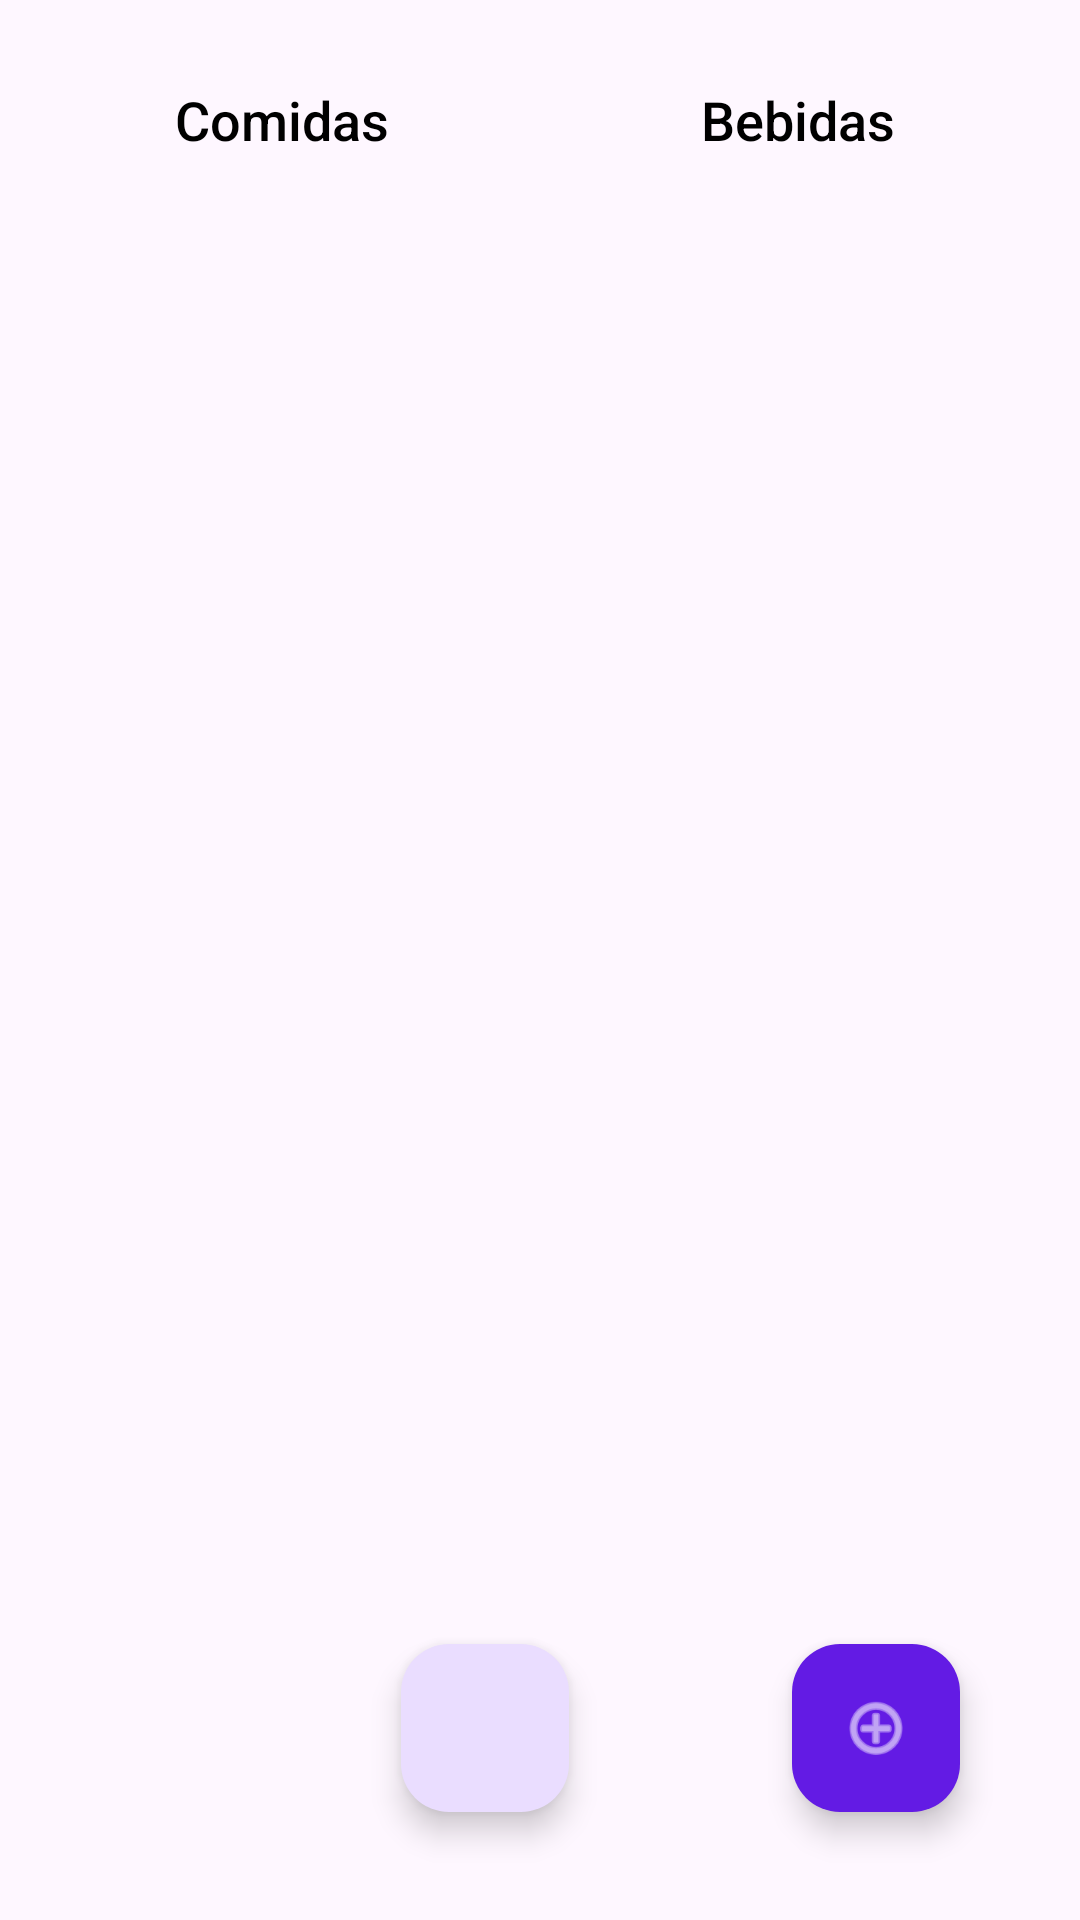

Locate icon controls on the screen. Image size 1080x1920, boxes as (x1, y1, x2, y2).
add: (792, 1644, 960, 1812)
